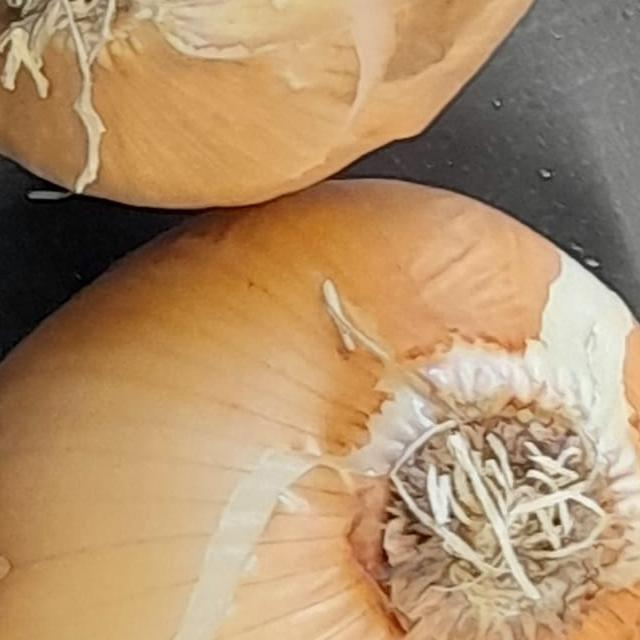onion: (0, 113, 640, 640), (0, 0, 626, 233)
